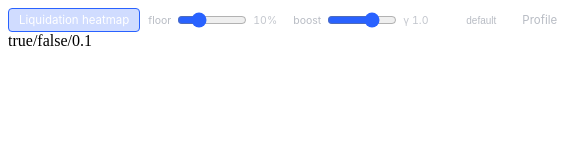
Test: the overlay toggles section › toggles the profile without touching the heatmap
Step 1. Click the button "Profile" → (540, 20), box [511, 8, 568, 32]
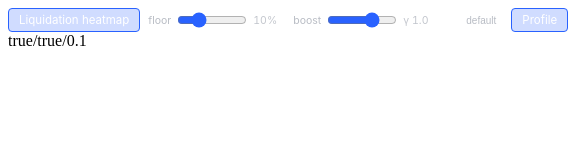
Check: the text with test id "overlays" reads "true/true/0.1", box [8, 32, 87, 49]
